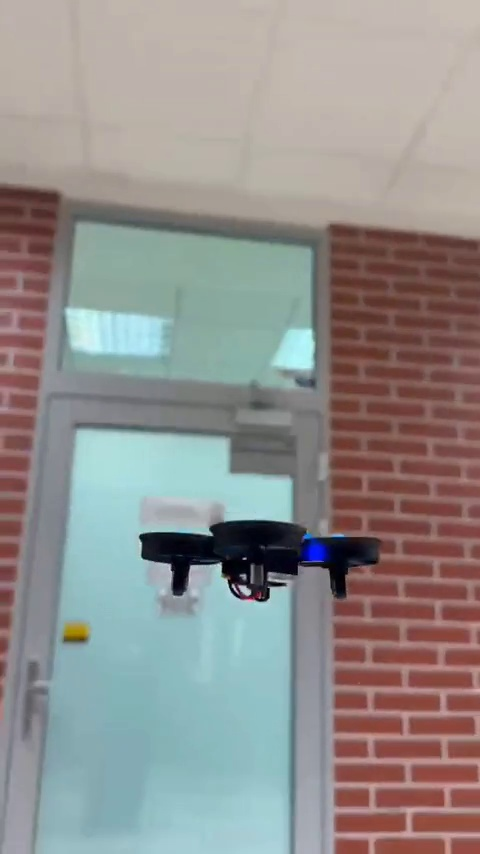drone: (128, 514, 391, 602)
